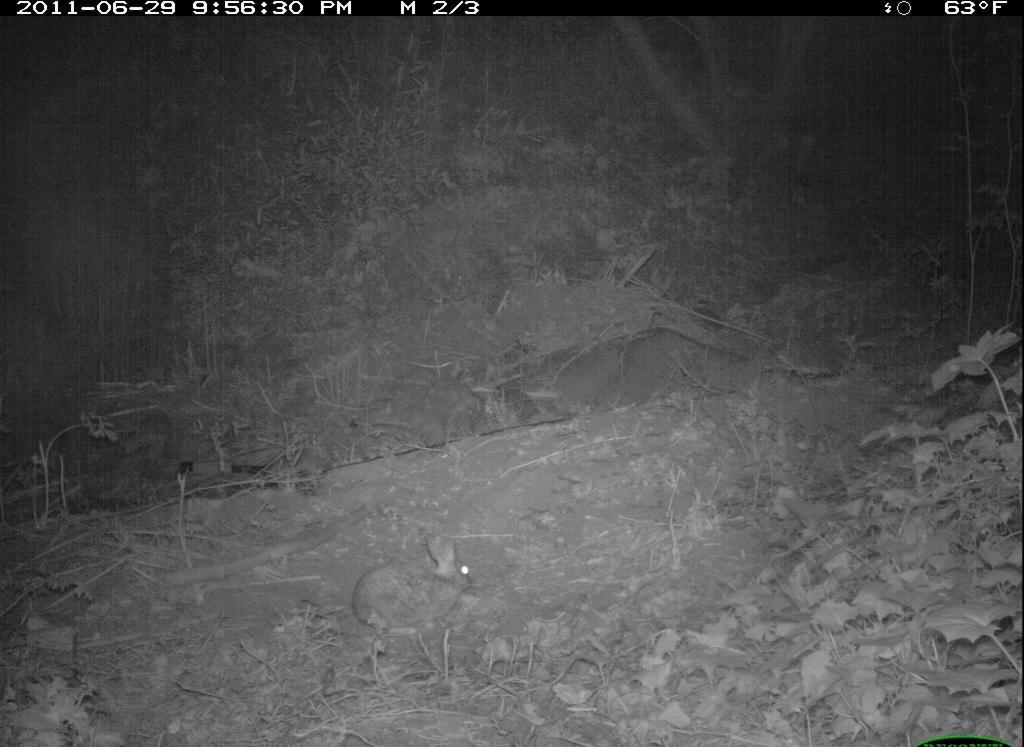rabbit: (346, 523, 481, 653)
